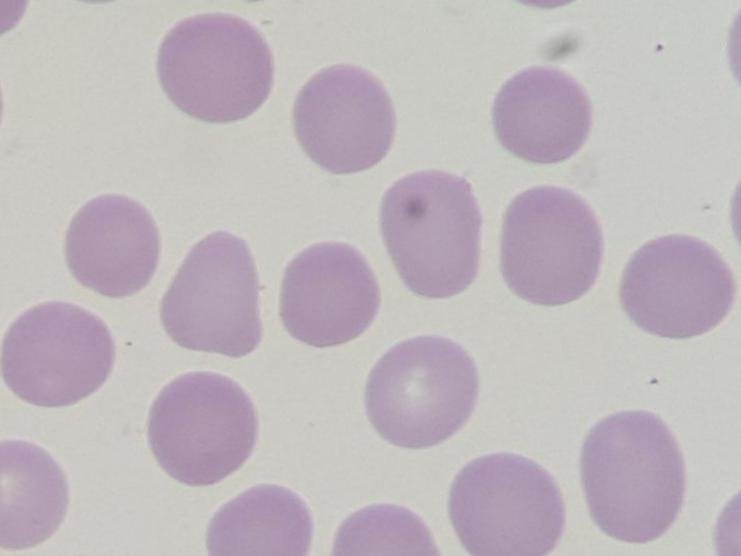Uninfected: (379, 168, 480, 304), (580, 413, 686, 542), (157, 12, 272, 129), (0, 299, 115, 413), (147, 370, 258, 487), (619, 233, 733, 343), (366, 338, 480, 446), (161, 230, 261, 353), (501, 186, 600, 309), (448, 453, 562, 556), (293, 62, 396, 174), (61, 193, 163, 301), (281, 239, 378, 349), (494, 66, 592, 168), (0, 435, 71, 554), (203, 485, 311, 556)
